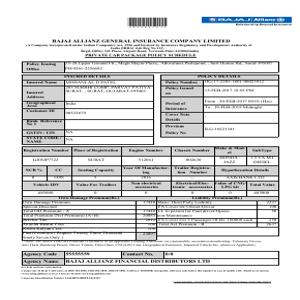image: (200, 13, 295, 26)
table: (22, 146, 278, 195), (23, 74, 153, 144), (161, 75, 279, 136), (24, 197, 158, 242), (158, 199, 277, 234), (21, 60, 281, 73), (22, 251, 279, 264)
text: (19, 33, 253, 58)
